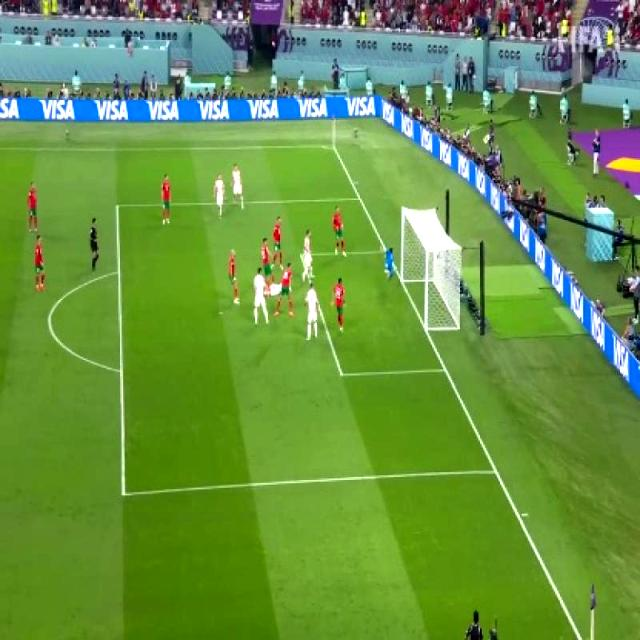bigarea_bottom_inner: (112, 479, 132, 504)
bigarea_bottom_outter: (485, 457, 505, 485)
bigarea_top_inner: (109, 196, 123, 214)
bigarea_top_outter: (351, 189, 366, 206)
bottom_arc_area_intersection: (112, 360, 128, 380)
corner: (325, 140, 340, 154)
smallarea_bottom_inner: (331, 358, 349, 386)
smallarea_bottom_outter: (432, 356, 454, 381)
top_arc_area_intersection: (110, 262, 125, 280)
